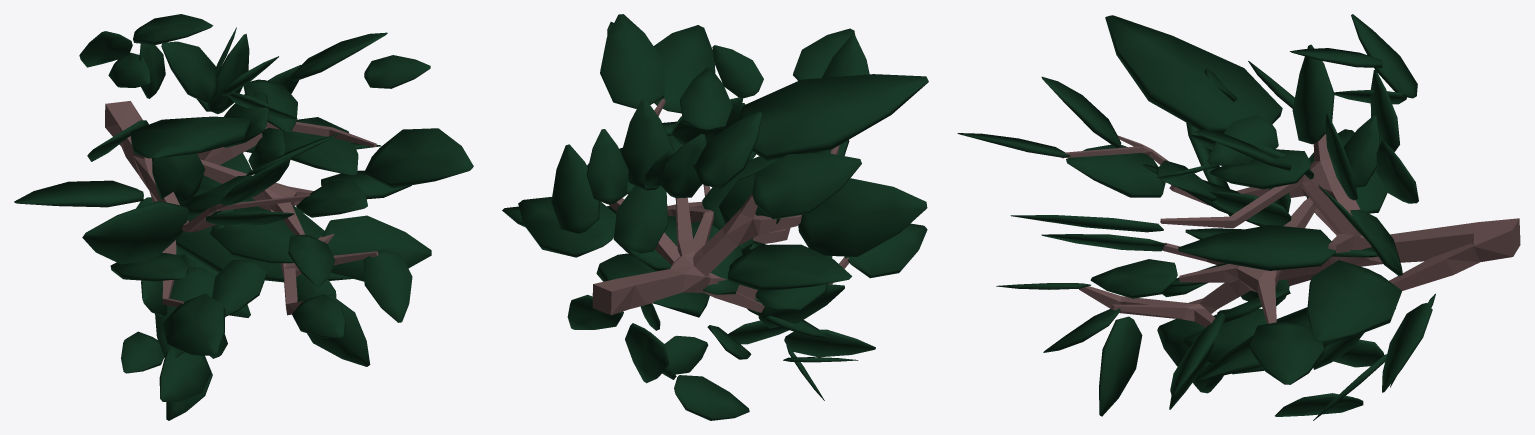
The model's file is leaves.obj.
3 renders of one model, left to right at view 1: azimuth 30°, elevation 25°; view 2: azimuth 150°, elevation 25°; view 3: azimuth 270°, elevation 25°, orthographic. The views are drawn at different scales.
Parts seen in each view (by area): view 1: branch_Plane, Cube.004, Cube.002, Cube.025, Cube.021, Cube.019, Cube.020, Cube.010, Cube.017, Cube, Cube.026, Cube.033 (+32 smaller); view 2: branch_Plane, Cube.025, Cube.002, Cube.022, Cube.056, Cube.010, Cube.001, Cube.004, Cube.052, Cube.030, Cube.034, Cube.032 (+24 smaller); view 3: branch_Plane, Cube.025, Cube.001, Cube, Cube.013, Cube.009, Cube.033, Cube.047, Cube.014, Cube.055, Cube.052, Cube.035 (+27 smaller).
Part boxes in pixels (box(x1,y1,x2,y2)): branch_Plane: box(105, 101, 378, 315); Cube.004: box(364, 128, 473, 188); Cube.002: box(82, 201, 188, 264); Cube.025: box(130, 116, 251, 158); Cube.021: box(322, 215, 431, 281); Cube.019: box(162, 293, 225, 355); Cube.020: box(210, 206, 293, 263); Cube.010: box(14, 180, 143, 207); Cube.017: box(363, 249, 412, 322); Cube: box(262, 117, 358, 175); Cube.026: box(176, 198, 352, 282); Cube.033: box(161, 41, 217, 103); branch_Plane: box(592, 99, 849, 315); Cube.025: box(737, 74, 928, 160); Cube.002: box(798, 178, 927, 256); Cube.022: box(752, 153, 861, 219); Cube.056: box(600, 14, 664, 108); Cube.010: box(727, 244, 851, 291); Cube.001: box(518, 197, 616, 257); Cube.004: box(653, 25, 715, 113); Cube.052: box(694, 111, 762, 188); Cube.030: box(613, 185, 667, 253); Cube.034: box(551, 144, 599, 233); Cube.032: box(621, 99, 673, 190); branch_Plane: box(1062, 134, 1520, 327); Cube.025: box(1105, 15, 1282, 133); Cube.001: box(1307, 260, 1401, 341); Cube: box(1178, 225, 1335, 270); Cube.013: box(1249, 321, 1323, 384); Cube.009: box(1066, 144, 1165, 197); Cube.033: box(1292, 44, 1334, 144); Cube.047: box(1099, 316, 1142, 416); Cube.014: box(1090, 259, 1177, 298); Cube.055: box(1210, 149, 1310, 189); Cube.052: box(1351, 14, 1417, 98); Cube.035: box(1382, 303, 1432, 392).
Bounding box in the file's own units: 2.89 × 2.48 × 3.28.
